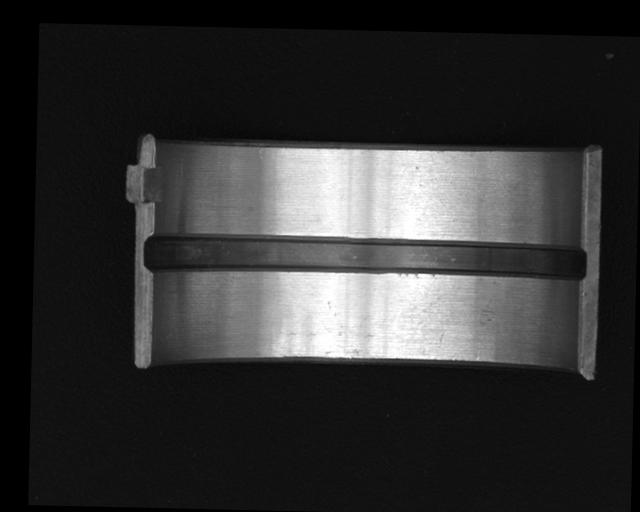gap: (140, 231, 589, 286)
